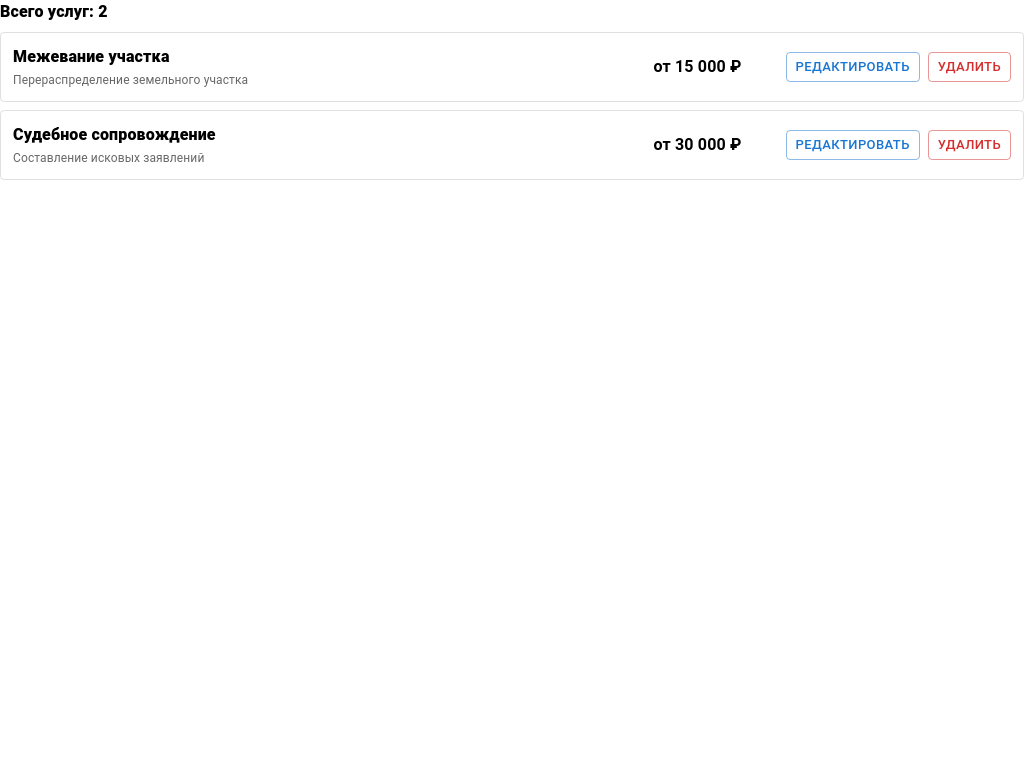
Test: ServicesAdminClient › shows API error when edit fails
Click the button "Редактировать" next to "от 15 000 ₽" at (853, 67), box [786,52,920,82]
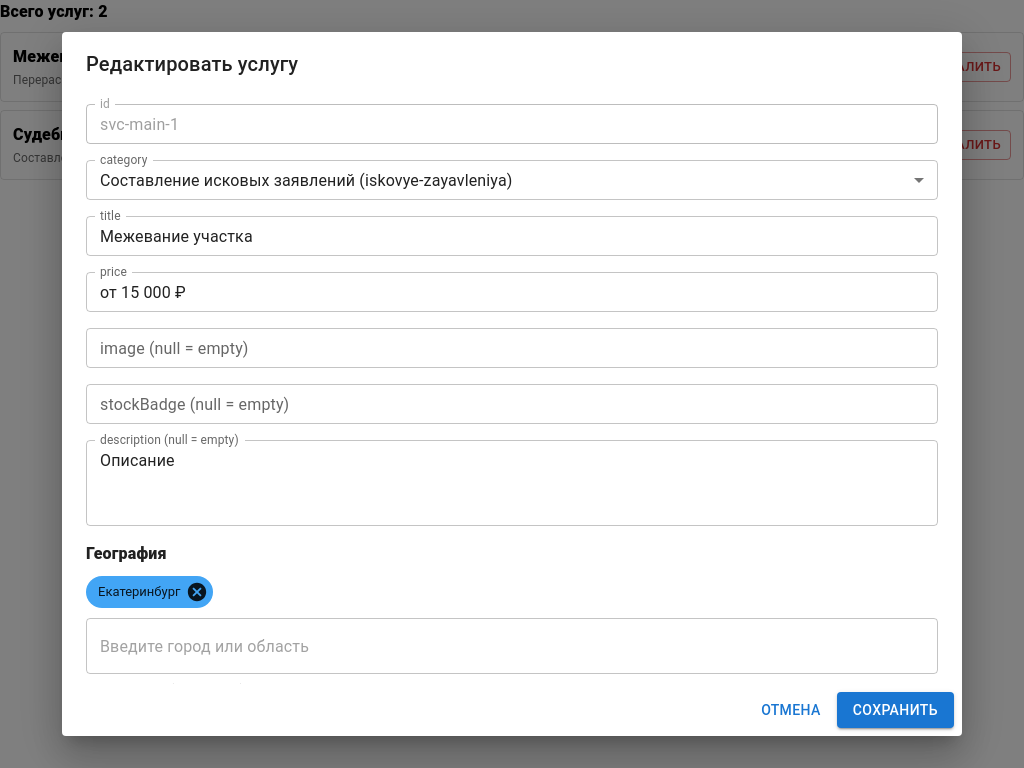
Click the button "Сохранить" at (895, 710), box [837,692,954,728]
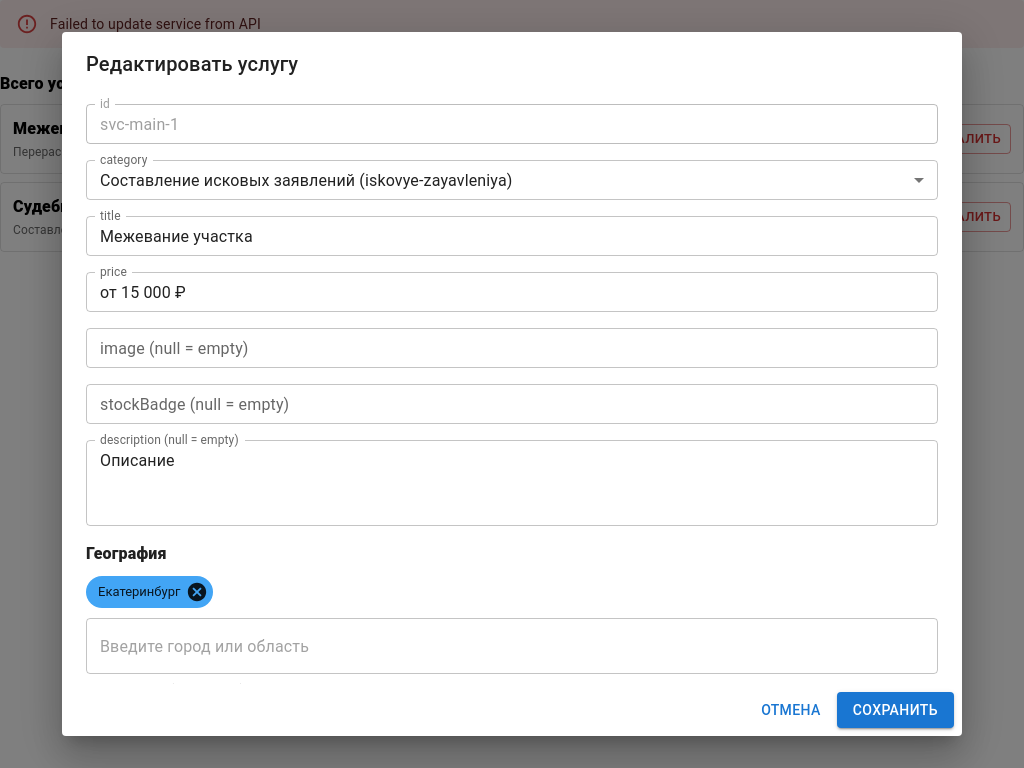
Expected: the text "Failed to update service from API" is shown, [50,16,261,32]
